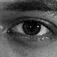eye: (23, 21, 40, 35)
